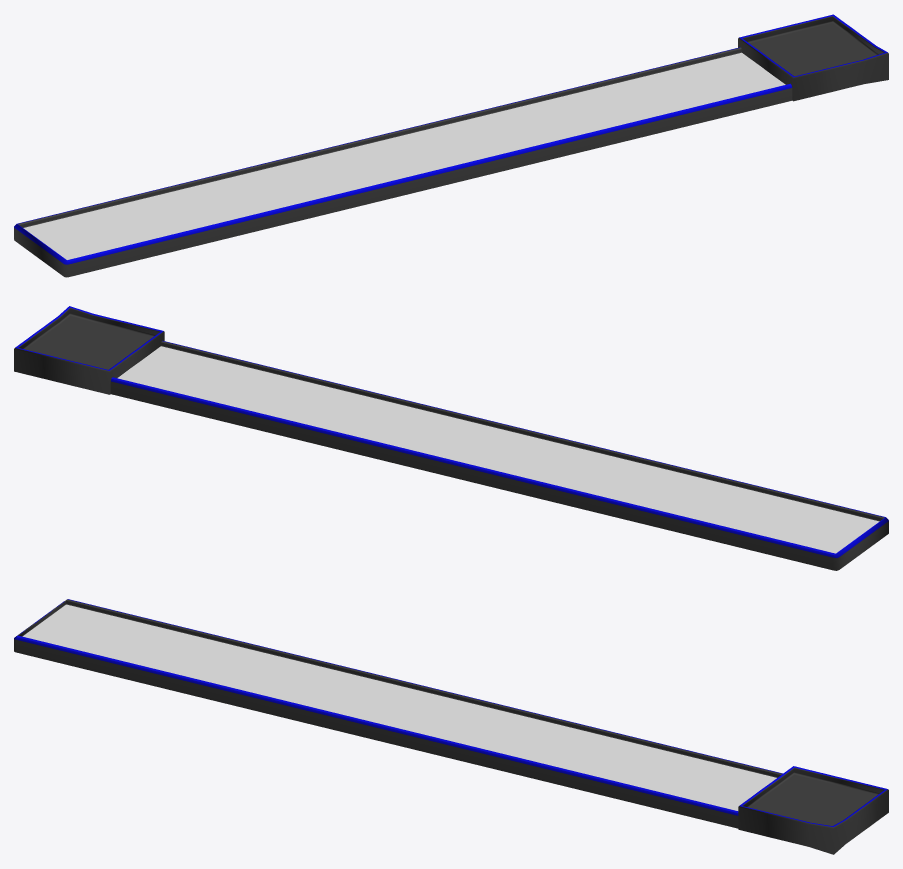
File: ButtonRounded.fbx
3 views of the same model, one above another, from view 1: azimuth 30°, elevation 25°; view 2: azimuth 150°, elevation 25°; view 3: azimuth 330°, elevation 25° (orthographic).
Visible parts, largest first — view 1: ButttonSimple; view 2: ButttonSimple; view 3: ButttonSimple.
Boxes of the visible parts, left/top/right/bottom form: ButttonSimple: left=14, top=14, right=888, bottom=277; ButttonSimple: left=14, top=306, right=888, bottom=570; ButttonSimple: left=14, top=599, right=888, bottom=854.
Size of the model in its own units: 3.95 by 0.1258 by 0.4598.
